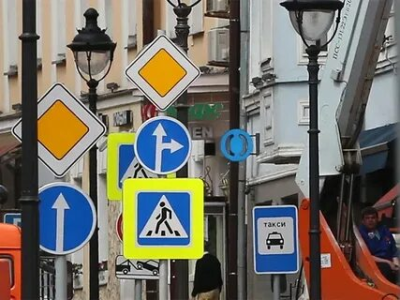crosswalk: (138, 193, 189, 244)
priority_road: (24, 91, 100, 168), (133, 40, 194, 103)
